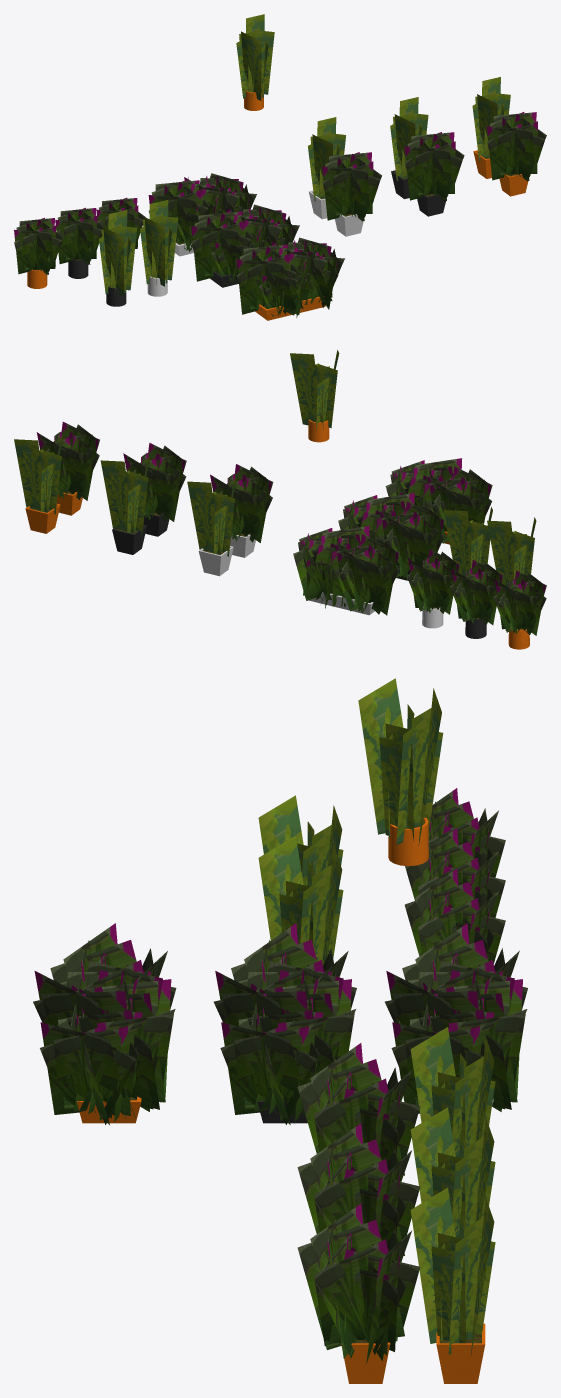
The model's file is palm_plant.glb.
The picture shows the model from 3 angles, top to bottom: view 1: azimuth 30°, elevation 25°; view 2: azimuth 150°, elevation 25°; view 3: azimuth 270°, elevation 25°; orthographic projection. The views are drawn at different scales.
Parts seen in each view (by area): view 1: Pot_8, Pot_7, Pot_3, Pot_14, Pot_13, Pot_12, Pot_9, Pot_10, Pot_11, Pot_2, Pot_1, Pot_5 (+3 smaller); view 2: Pot_3, Pot_7, Pot_8, Pot_4, Pot_6, Pot_5, Pot_13, Pot_12, Pot_14, Pot_11, Pot_2, Pot (+3 smaller); view 3: Pot_8, Pot_7, Pot_3, Pot_14, Pot_6, Pot_11, Pot_13, Pot_12, Pot_9, Pot_4, Pot_5, Pot (+3 smaller).
Boxes of the visible parts, x1,y1,x2,y2 form: Pot_8: [236, 237, 344, 320]; Pot_7: [191, 204, 299, 287]; Pot_3: [148, 173, 256, 256]; Pot_14: [487, 112, 546, 196]; Pot_13: [404, 132, 464, 216]; Pot_12: [322, 152, 381, 236]; Pot_9: [140, 200, 178, 296]; Pot_10: [99, 210, 137, 306]; Pot_11: [236, 14, 274, 110]; Pot_2: [14, 217, 63, 288]; Pot_1: [55, 207, 104, 278]; Pot_5: [390, 97, 428, 199]; Pot_3: [293, 526, 399, 615]; Pot_7: [338, 493, 444, 580]; Pot_8: [385, 458, 492, 544]; Pot_4: [187, 478, 236, 576]; Pot_6: [14, 436, 63, 533]; Pot_5: [100, 457, 149, 554]; Pot_13: [123, 443, 186, 536]; Pot_12: [210, 464, 273, 557]; Pot_14: [36, 422, 99, 515]; Pot_11: [290, 350, 339, 442]; Pot_2: [493, 570, 546, 649]; Pot: [407, 549, 460, 628]; Pot_8: [33, 923, 176, 1124]; Pot_7: [213, 923, 356, 1124]; Pot_3: [385, 923, 527, 1113]; Pot_14: [297, 1203, 420, 1383]; Pot_6: [410, 1187, 495, 1383]; Pot_11: [358, 678, 443, 866]; Pot_13: [297, 1123, 420, 1255]; Pot_12: [297, 1043, 420, 1175]; Pot_9: [258, 835, 343, 965]; Pot_4: [410, 1027, 495, 1157]; Pot_5: [410, 1107, 495, 1237]; Pot: [404, 868, 505, 963].
Bounding box in the file's own units: 12.24 × 5.15 × 5.21.
Materials: 1 (1 with a texture image).
